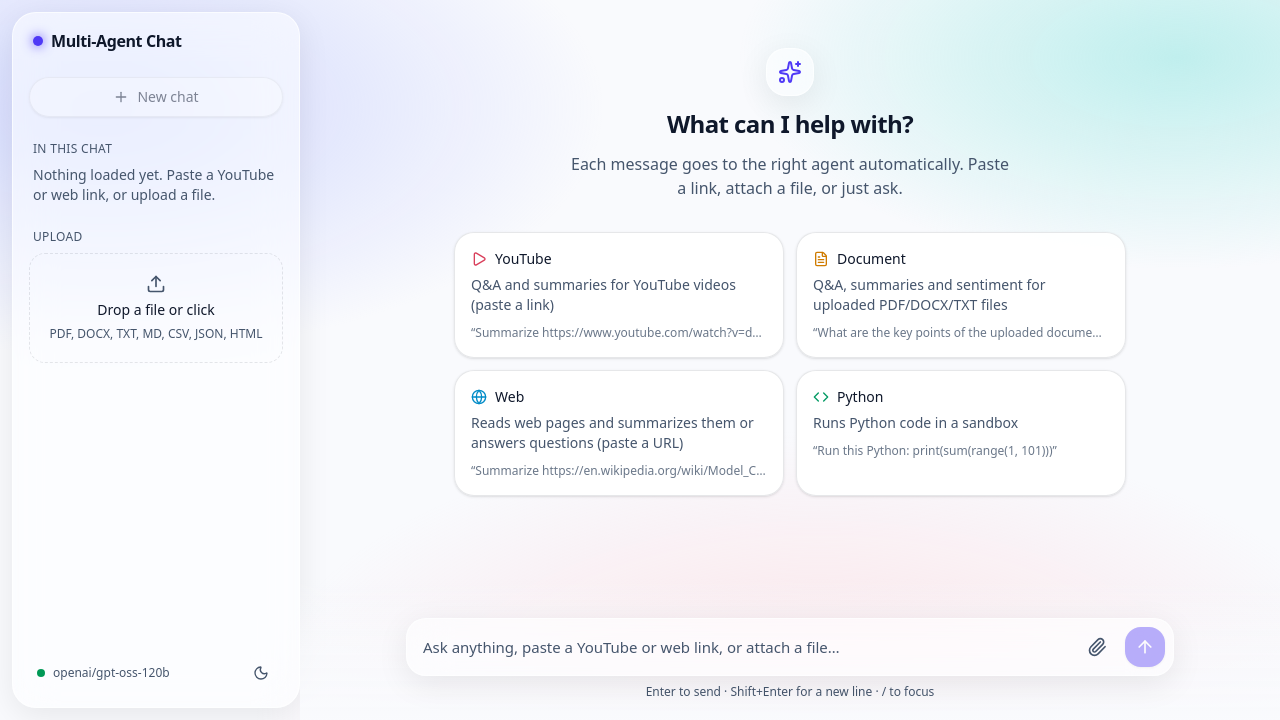
App › sends with Enter and shows the reply with its agent
The image size is (1280, 720).
(page scrolled)
In the text box named "Message": (746, 647) [423, 627, 1069, 667], type "sum 1 to 100"
Then press Enter
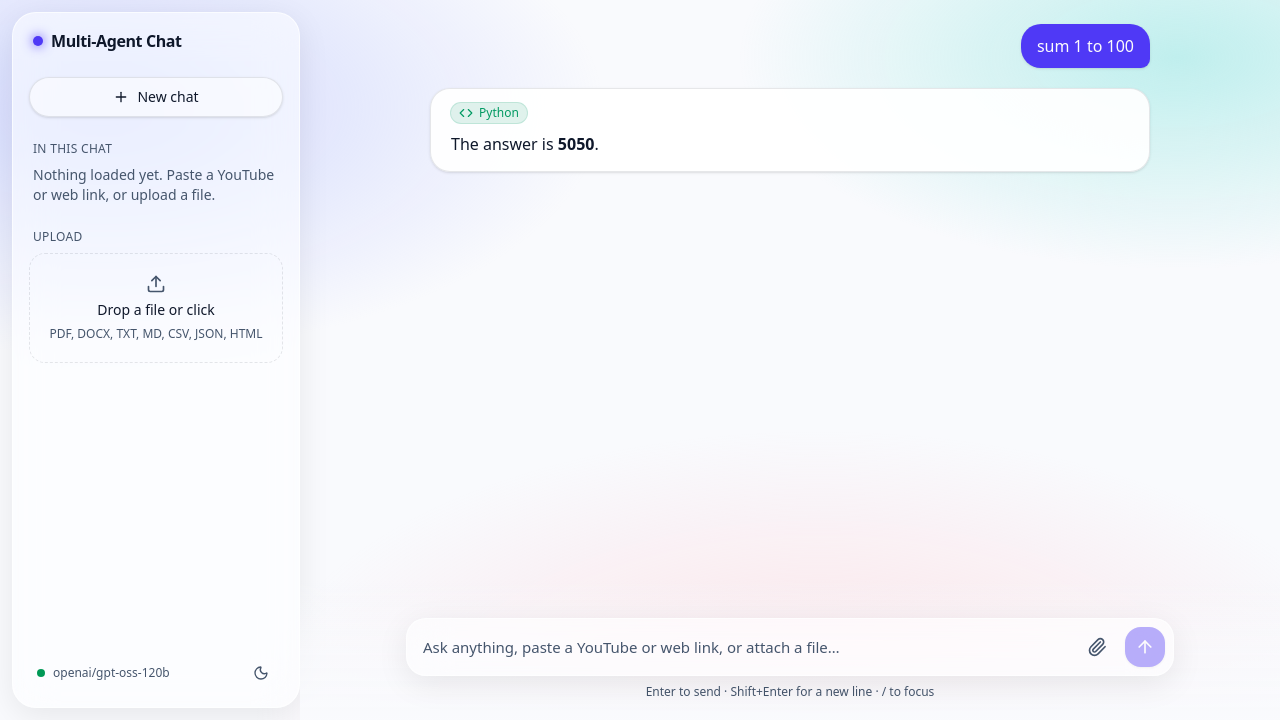
Expected: the text "Python" is shown, [451, 103, 527, 123]
Expected: the text "sum 1 to 100" is shown, [1021, 24, 1150, 68]
Expected: the text "5050" is shown, [558, 133, 594, 155]
